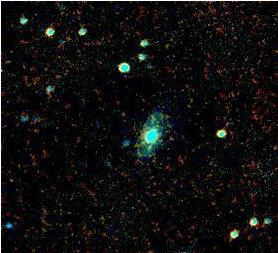star: (132, 133, 162, 163)
